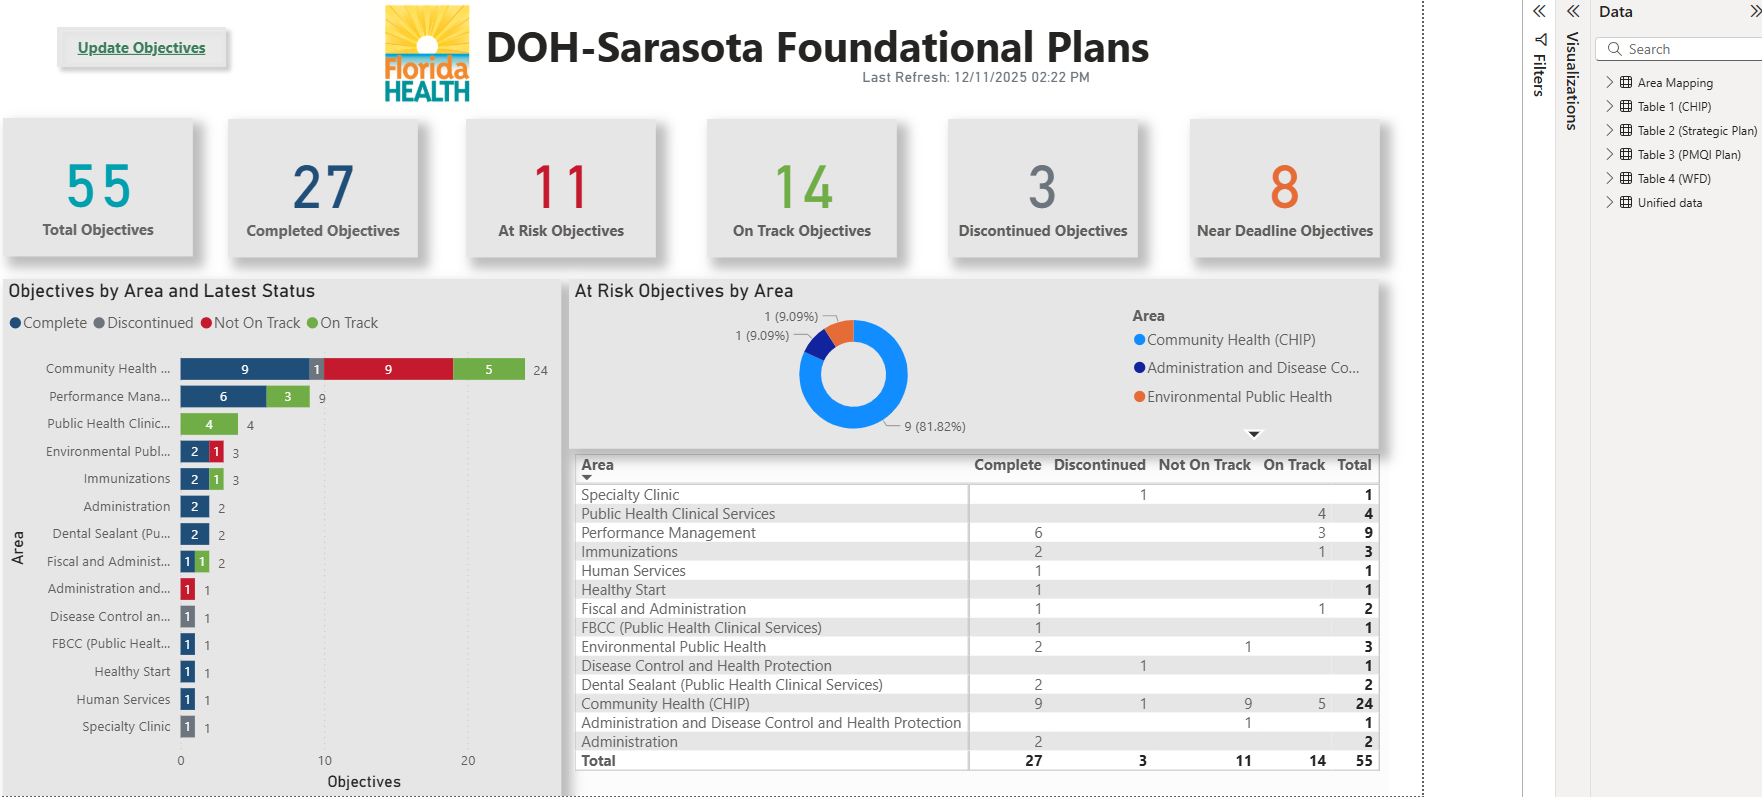

This screenshot's page, from the dashboard's own definition file:
{"tool":"powerbi","page":{"name":"Page 1","canvas":[1280,720],"ordinal":0},"visuals":[{"type":"card","fields":{"Values":["Area Mapping.Total Objectives"]},"box":[9.7,112.8,170,124.5],"z":0},{"type":"card","fields":{"Values":["Unified data.Completed Objectives"]},"box":[211.1,113.8,170.2,124],"z":1000},{"type":"card","fields":{"Values":["Unified data.At Risk Objectives"]},"box":[424.1,113.8,170.2,124],"z":2000},{"type":"card","fields":{"Values":["Unified data.On Track Objectives"]},"box":[640,113.8,170,124],"z":3000},{"type":"card","fields":{"Values":["Unified data.Discontinued Objectives"]},"box":[855.9,113.8,170,124],"z":4000},{"type":"textbox","box":[10,570,280,150],"z":5000},{"type":"card","fields":{"Values":["Unified data.Near Deadline Objectives"]},"box":[1072.8,113.8,170,124],"z":6000},{"type":"barChart","fields":{"Category":["Unified data.Area"],"Y":["CountNonNull(Unified data.Objectives)"],"Series":["Unified data.Latest Status.1"]},"box":[9.7,256.8,499.9,463],"z":7000},{"type":"pivotTable","fields":{"Rows":["Unified data.Area"],"Columns":["Unified data.Latest Status.1"],"Values":["CountNonNull(Unified data.Objectives)"]},"box":[516.5,408.5,735.3,311.2],"z":8000},{"type":"donutChart","fields":{"Y":["Unified data.At Risk Objectives (Not On Track Status)"],"Category":["Unified data.Area"]},"box":[516.5,256.8,724.6,151.7],"z":9000},{"type":"image","box":[332.6,0,114.8,109.9],"z":10000},{"type":"textbox","box":[436.7,1,711,120.6],"z":11000},{"type":"card","fields":{"Values":["Unified data.Last Refresh"]},"box":[731.4,62.2,299.6,26.3],"z":12000},{"type":"actionButton","box":[49.6,22.4,169.2,53.5],"z":13000}]}

Visuals, with their boxes on the page's 1280x720 design canvas (x1, y1, x2, y2). These are canvas units, not pixel positions in the 1762x797 screenshot, which may show the page scaled, cropped or inside an application window:
card - Area Mapping.Total Objectives: (10,113,180,237)
card - Unified data.Completed Objectives: (211,114,381,238)
card - Unified data.At Risk Objectives: (424,114,594,238)
card - Unified data.On Track Objectives: (640,114,810,238)
card - Unified data.Discontinued Objectives: (856,114,1026,238)
textbox: (10,570,290,720)
card - Unified data.Near Deadline Objectives: (1073,114,1243,238)
barChart - Unified data.Area x CountNonNull(Unified data.Objectives): (10,257,510,720)
pivotTable - Unified data.Area x Unified data.Latest Status.1: (516,408,1252,720)
donutChart - Unified data.At Risk Objectives (Not On Track Status) x Unified data.Area: (516,257,1241,408)
image: (333,0,447,110)
textbox: (437,1,1148,122)
card - Unified data.Last Refresh: (731,62,1031,88)
actionButton: (50,22,219,76)
